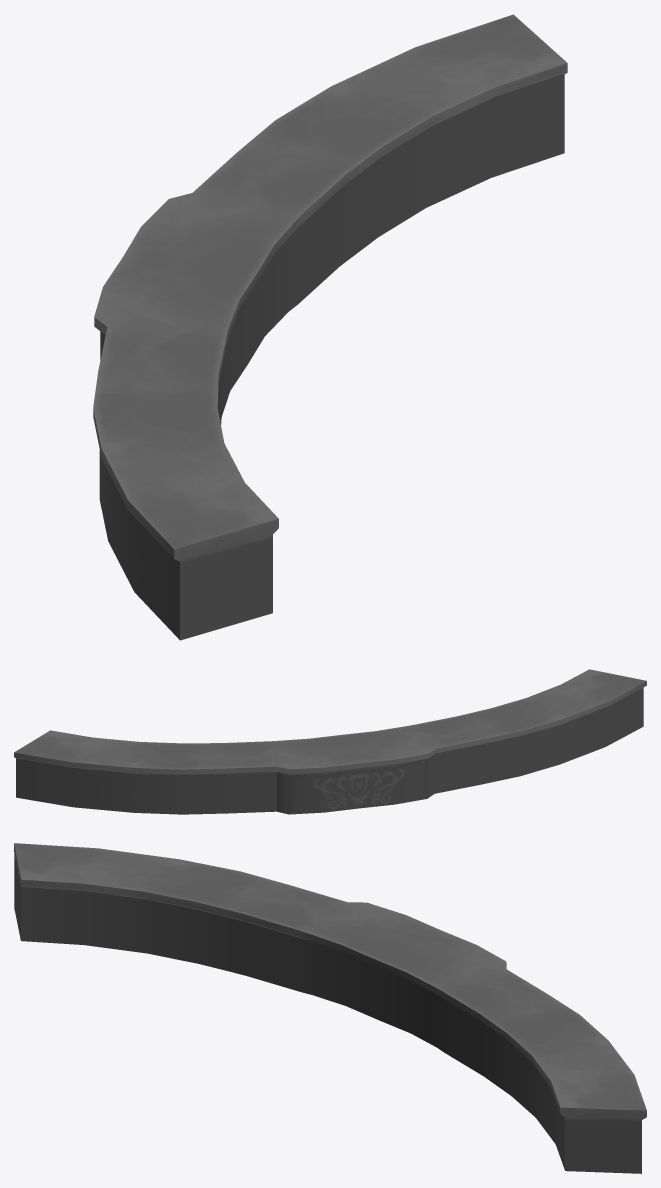
File: MainDesk.fbx
3 views of the same model, one above another, from view 1: azimuth 30°, elevation 25°; view 2: azimuth 150°, elevation 25°; view 3: azimuth 270°, elevation 25° (orthographic). The views are drawn at different scales.
Visible parts, largest first — view 1: mainDesk1; view 2: mainDesk1; view 3: mainDesk1.
Part boxes in pixels (bbox=[...]): mainDesk1: bbox=[93, 14, 567, 640]; mainDesk1: bbox=[14, 669, 646, 814]; mainDesk1: bbox=[14, 843, 646, 1173].
Bounding box in the file's own units: 20.31 × 2.24 × 20.31.
